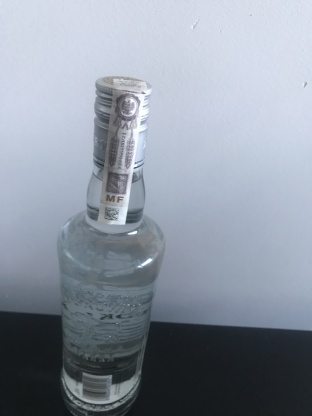nakretka: (89, 70, 155, 171)
